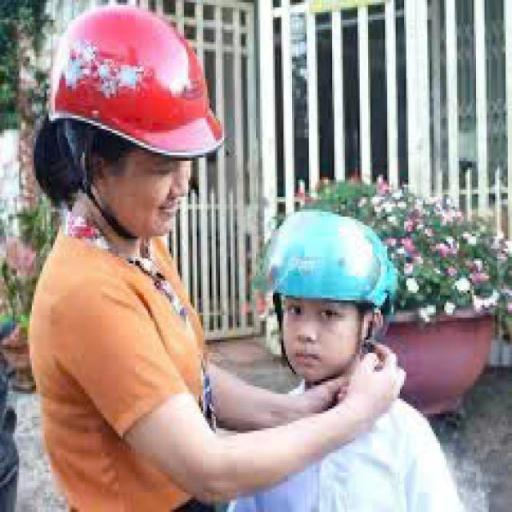with helmet: (44, 3, 226, 157), (265, 201, 403, 312)
